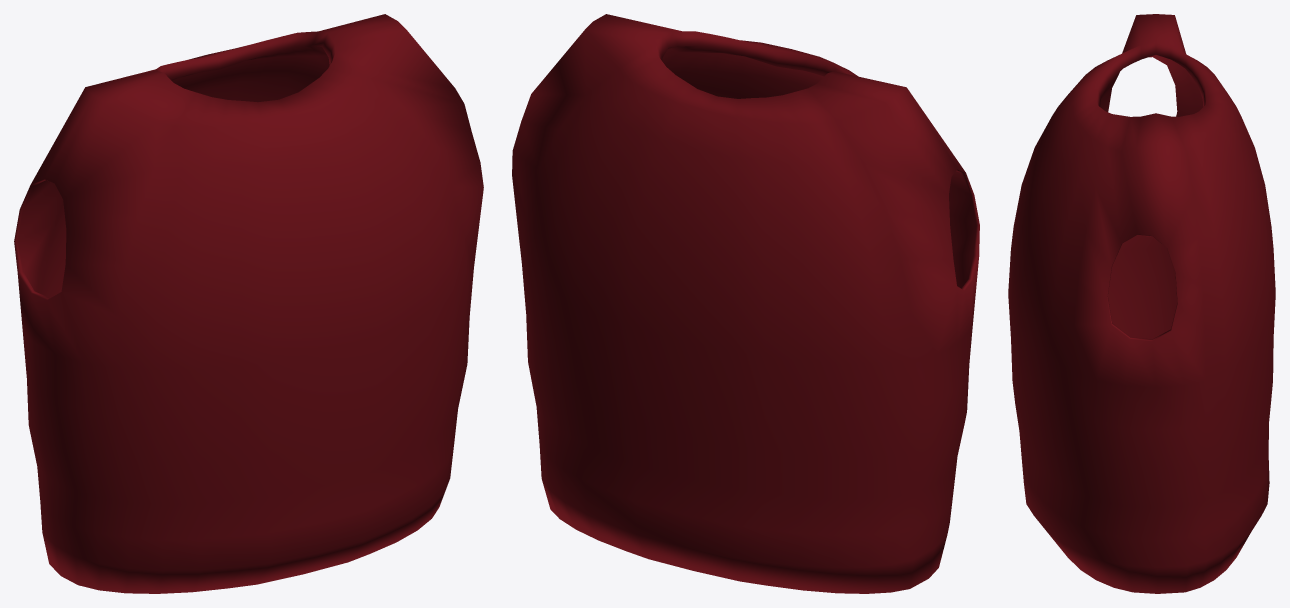
File: pechera.fbx
3 views of the same model, side by side, from view 1: azimuth 30°, elevation 25°; view 2: azimuth 150°, elevation 25°; view 3: azimuth 270°, elevation 25° (orthographic). The views are drawn at different scales.
Parts seen in each view (by area): view 1: Sphere; view 2: Sphere; view 3: Sphere.
Part boxes in pixels (bbox=[...]): Sphere: bbox=[14, 14, 483, 593]; Sphere: bbox=[512, 14, 979, 593]; Sphere: bbox=[1008, 14, 1275, 593].
Bounding box in the file's own units: 197 × 202 × 113.
